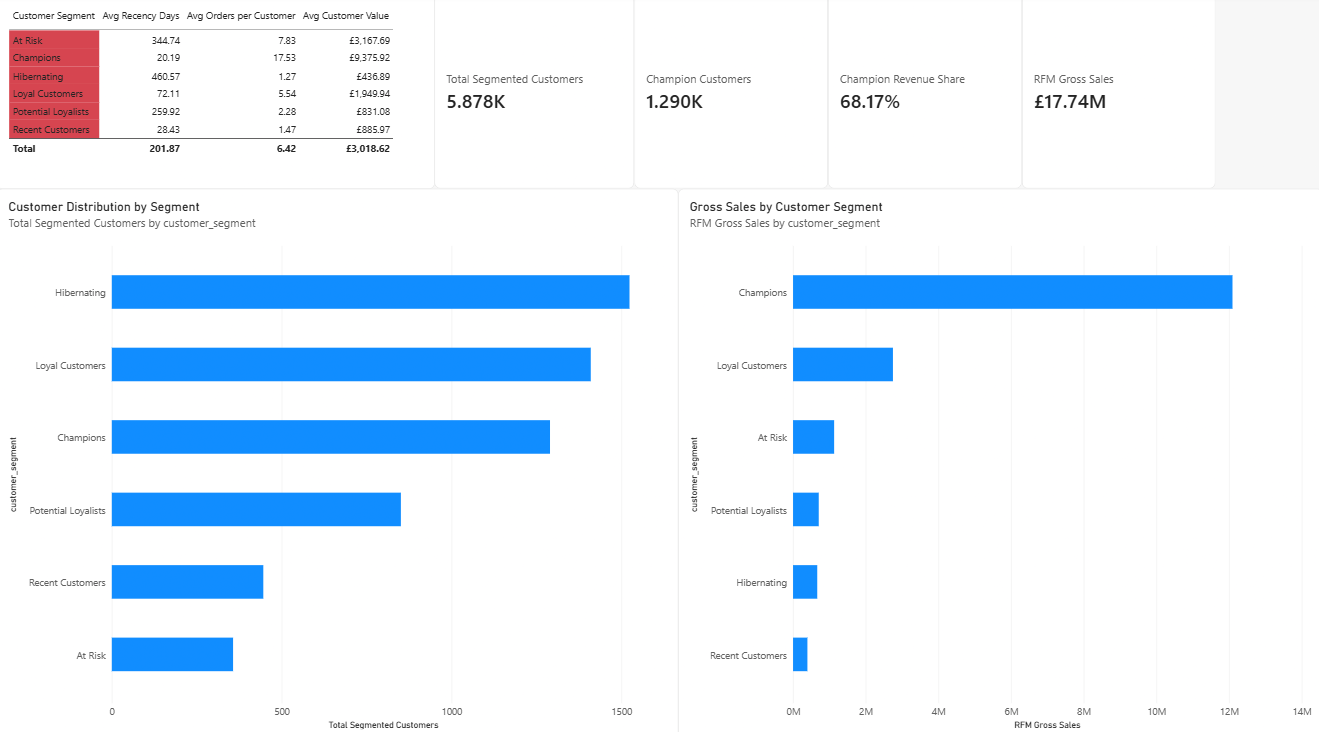

The dashboard page shown, as its layout file describes it:
{"tool":"powerbi","page":{"name":"Customer Intelligence","canvas":[1920,1080],"ordinal":1},"visuals":[{"type":"cardVisual","fields":{"Data":["Customer_RFM.Champion Customers"]},"box":[922.9,0,280,280],"z":0},{"type":"cardVisual","fields":{"Data":["Customer_RFM.Champion Revenue Share"]},"box":[1203.4,0,280,280],"z":1000},{"type":"cardVisual","fields":{"Data":["Customer_RFM.RFM Gross Sales"]},"box":[1483.9,0,280,280],"z":2000},{"type":"cardVisual","fields":{"Data":["Customer_RFM.Total Segmented Customers"]},"box":[633.4,0,289.5,280.8],"z":3000},{"type":"clusteredBarChart","title":"Customer Distribution by Segment","fields":{"Category":["Customer_RFM.customer_segment"],"Y":["Customer_RFM.Total Segmented Customers"]},"box":[0,280.5,986.3,799.9],"z":4000},{"type":"clusteredBarChart","title":"Gross Sales by Customer Segment","fields":{"Category":["Customer_RFM.customer_segment"],"Y":["Customer_RFM.RFM Gross Sales"]},"box":[986.3,280.5,933.8,799.9],"z":5000},{"type":"tableEx","fields":{"Values":["Customer_RFM.customer_segment","Customer_RFM.Avg Recency Days","Customer_RFM.Avg Orders per Customer","Customer_RFM.Avg Customer Value"]},"box":[0,0,633.4,280.5],"z":6000}]}

Visuals, with their boxes in screenshot pixels (x1, y1, x2, y2), scaled from the page's 1920x1080 canvas onto the 1319x732 screenshot:
cardVisual - Customer_RFM.Champion Customers: left=634, top=0, right=826, bottom=190
cardVisual - Customer_RFM.Champion Revenue Share: left=827, top=0, right=1019, bottom=190
cardVisual - Customer_RFM.RFM Gross Sales: left=1019, top=0, right=1212, bottom=190
cardVisual - Customer_RFM.Total Segmented Customers: left=435, top=0, right=634, bottom=190
"Customer Distribution by Segment" clusteredBarChart: left=0, top=190, right=678, bottom=731
"Gross Sales by Customer Segment" clusteredBarChart: left=678, top=190, right=1318, bottom=731
tableEx - Customer_RFM.customer_segment x Customer_RFM.Avg Recency Days: left=0, top=0, right=435, bottom=190
